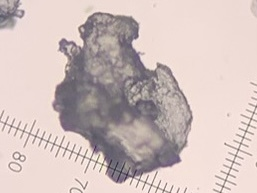microplastic: (51, 12, 194, 185), (1, 1, 25, 32)
